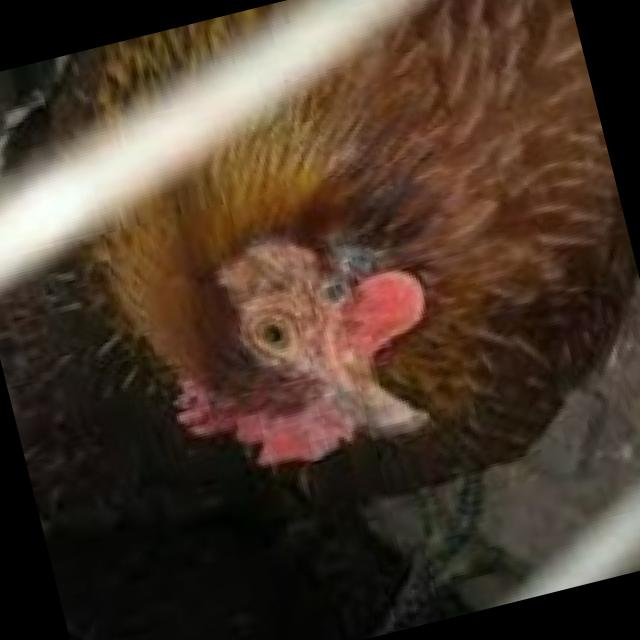Fowlpox: (205, 197, 438, 473)
